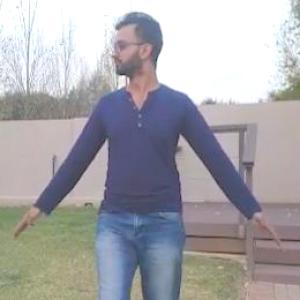land: (15, 16, 299, 299)
